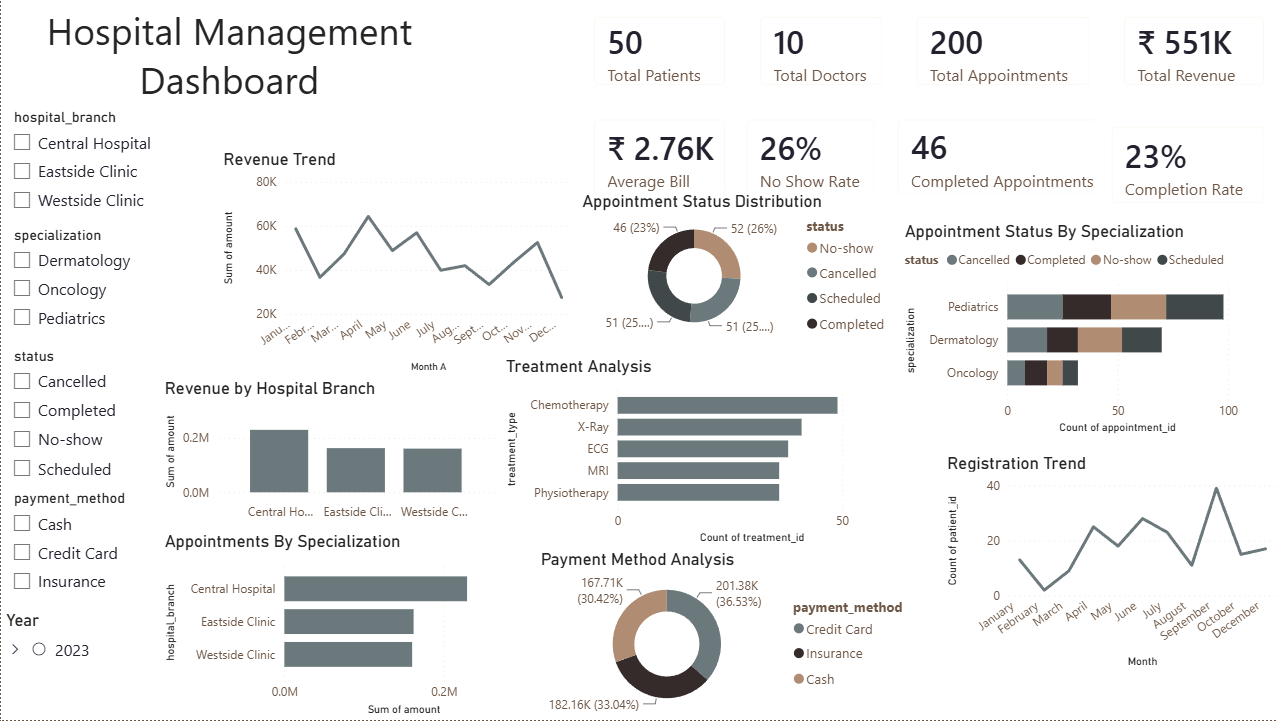

Layout of this report page (visuals, bound fields, positions):
{"tool":"powerbi","page":{"name":"Page 1","canvas":[1280,720],"ordinal":0},"visuals":[{"type":"textbox","box":[0,0,457,117],"z":0},{"type":"cardVisual","fields":{"Data":["appointments.Total Patients"]},"box":[576.5,0,165.4,102.8],"z":1000},{"type":"cardVisual","fields":{"Data":["appointments.Total Doctors"]},"box":[741.9,0,156.4,102.8],"z":2000},{"type":"cardVisual","fields":{"Data":["appointments.Total Appointments"]},"box":[898.3,0,207.8,102.8],"z":3000},{"type":"cardVisual","fields":{"Data":["appointments.Total Revenue"]},"box":[1106.2,0,174.3,102.8],"z":4000},{"type":"cardVisual","fields":{"Data":["appointments.Average Bill"]},"box":[576.2,102.5,165,110],"z":5000},{"type":"cardVisual","fields":{"Data":["appointments.Completed Appointments"]},"box":[880.5,102.8,243.6,109.5],"z":6000},{"type":"cardVisual","fields":{"Data":["appointments.No Show Rate"]},"box":[728.8,102.5,162.5,110],"z":7000},{"type":"cardVisual","fields":{"Data":["appointments.Completion Rate"]},"box":[1093.8,110,186.2,110],"z":8000},{"type":"donutChart","title":"Appointment Status Distribution","fields":{"Category":["appointments.status"],"Y":["CountNonNull(appointments.appointment_id)"]},"box":[576,191.6,322.2,150.5],"z":9000},{"type":"clusteredBarChart","title":"Appointments By Specialization","fields":{"Category":["doctors.hospital_branch"],"Y":["Sum(billing.amount)"]},"box":[159.2,531.2,383.1,189.1],"z":10000},{"type":"clusteredColumnChart","title":"Revenue by Hospital Branch","fields":{"Category":["doctors.hospital_branch"],"Y":["Sum(billing.amount)"]},"box":[159,377,341,150],"z":11000},{"type":"lineChart","title":"Revenue Trend","fields":{"Category":["billing.bill_date.Variation.Date Hierarchy.Month"],"Y":["Sum(billing.amount)"]},"box":[218,149,358,228],"z":12000},{"type":"donutChart","title":"Payment Method Analysis","fields":{"Category":["billing.payment_method"],"Y":["Sum(billing.amount)"]},"box":[554,549,388,171],"z":13000},{"type":"clusteredBarChart","title":"Treatment Analysis","fields":{"Category":["treatments.treatment_type"],"Y":["CountNonNull(billing.treatment_id)"]},"box":[500.1,355.8,398.1,192.8],"z":14000},{"type":"barChart","title":"Appointment Status By Specialization","fields":{"Category":["doctors.specialization"],"Series":["appointments.status"],"Y":["CountNonNull(appointments.appointment_id)"]},"box":[898.1,221.4,343.3,217.7],"z":15000},{"type":"lineChart","title":"Registration Trend","fields":{"Category":["patients.registration_date.Variation.Date Hierarchy.Month"],"Y":["CountNonNull(appointments.patient_id)"]},"box":[941.7,452.8,338.4,220.2],"z":16000},{"type":"slicer","fields":{"Values":["doctors.hospital_branch"]},"box":[0,103.2,159.2,123.2],"z":17000},{"type":"slicer","fields":{"Values":["doctors.specialization"]},"box":[0,221.4,159.2,128.1],"z":18000},{"type":"slicer","fields":{"Values":["appointments.status"]},"box":[0,342.1,159.2,148],"z":19000},{"type":"slicer","fields":{"Values":["billing.payment_method"]},"box":[0,485.1,159.2,124.4],"z":20000},{"type":"listSlicer","fields":{"Values":["appointments.appointment_date.Variation.Date Hierarchy.Year","appointments.appointment_date.Variation.Date Hierarchy.Quarter","appointments.appointment_date.Variation.Date Hierarchy.Month","appointments.appointment_date.Variation.Date Hierarchy.Day"]},"box":[0,609.5,159.2,110.7],"z":21000}]}

Visuals, with their boxes in screenshot pixels (x1, y1, x2, y2), scaled from the page's 1280x720 canvas onto the 1277x721 screenshot:
textbox: box=[0, 0, 456, 117]
cardVisual - appointments.Total Patients: box=[575, 0, 740, 103]
cardVisual - appointments.Total Doctors: box=[740, 0, 896, 103]
cardVisual - appointments.Total Appointments: box=[896, 0, 1104, 103]
cardVisual - appointments.Total Revenue: box=[1104, 0, 1276, 103]
cardVisual - appointments.Average Bill: box=[575, 103, 739, 213]
cardVisual - appointments.Completed Appointments: box=[878, 103, 1121, 213]
cardVisual - appointments.No Show Rate: box=[727, 103, 889, 213]
cardVisual - appointments.Completion Rate: box=[1091, 110, 1276, 220]
"Appointment Status Distribution" donutChart: box=[575, 192, 896, 343]
"Appointments By Specialization" clusteredBarChart: box=[159, 532, 541, 720]
"Revenue by Hospital Branch" clusteredColumnChart: box=[159, 378, 499, 528]
"Revenue Trend" lineChart: box=[217, 149, 575, 378]
"Payment Method Analysis" donutChart: box=[553, 550, 940, 720]
"Treatment Analysis" clusteredBarChart: box=[499, 356, 896, 549]
"Appointment Status By Specialization" barChart: box=[896, 222, 1238, 440]
"Registration Trend" lineChart: box=[939, 453, 1276, 674]
slicer - doctors.hospital_branch: box=[0, 103, 159, 227]
slicer - doctors.specialization: box=[0, 222, 159, 350]
slicer - appointments.status: box=[0, 343, 159, 491]
slicer - billing.payment_method: box=[0, 486, 159, 610]
listSlicer - appointments.appointment_date.Variation.Date Hierarchy.Year x appointments.appointment_date.Variation.Date Hierarchy.Quarter: box=[0, 610, 159, 720]
